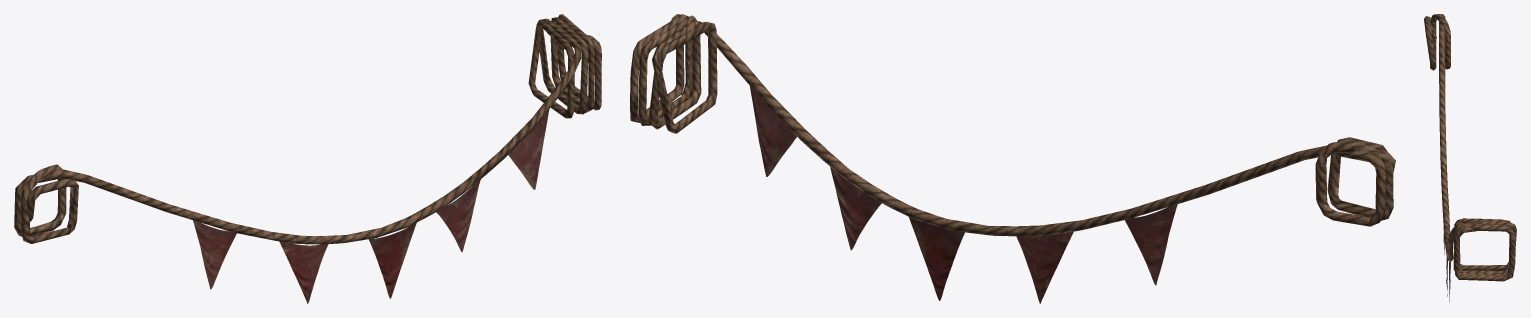
Rendered from SM_RopeWithFlags_A.fbx.
The picture shows the model from 3 angles, left to right: view 1: azimuth 30°, elevation 25°; view 2: azimuth 150°, elevation 25°; view 3: azimuth 270°, elevation 25°; orthographic projection. The views are drawn at different scales.
Visible parts, largest first — view 1: SM_RopeWithFlags_A; view 2: SM_RopeWithFlags_A; view 3: SM_RopeWithFlags_A.
Part boxes in pixels (left/top/right/bottom): SM_RopeWithFlags_A: left=14, top=14, right=601, bottom=303; SM_RopeWithFlags_A: left=630, top=14, right=1395, bottom=303; SM_RopeWithFlags_A: left=1424, top=14, right=1516, bottom=302.
Bounding box in the file's own units: 364 × 67.84 × 127.
